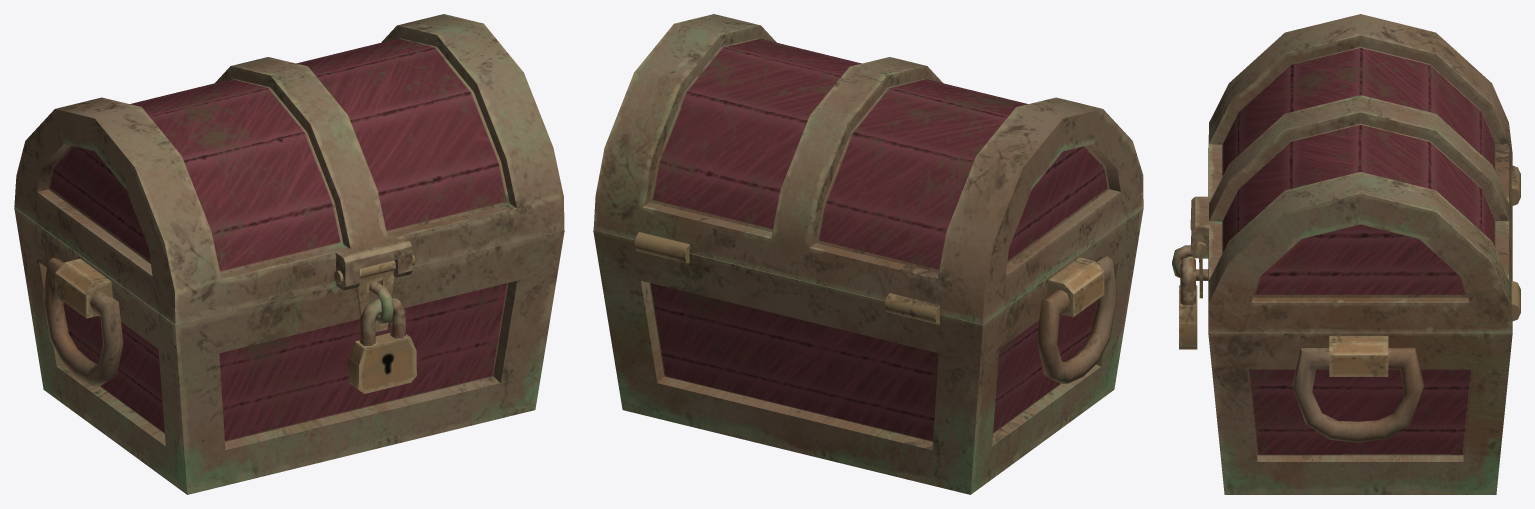
The model's file is airdrop.glb.
The picture shows the model from 3 angles, left to right: view 1: azimuth 30°, elevation 25°; view 2: azimuth 150°, elevation 25°; view 3: azimuth 270°, elevation 25°; orthographic projection. The views are drawn at different scales.
Visible parts, largest first — view 1: lid_low, bottom_low, lock_low, handle_low, bracket_low, holder_low, loop_low; view 2: lid_low, bottom_low, handle_low, bracket_low, hinge_low, hinge_02_low; view 3: lid_low, bottom_low, handle_low, bracket_low, lock_low, loop_low.
Part boxes in pixels (bbox=[...]): lid_low: bbox=[14, 14, 564, 324]; bottom_low: bbox=[14, 207, 564, 494]; lock_low: bbox=[349, 297, 416, 393]; handle_low: bbox=[43, 258, 123, 386]; bracket_low: bbox=[55, 258, 112, 318]; holder_low: bbox=[356, 271, 394, 332]; loop_low: bbox=[369, 282, 393, 324]; lid_low: bbox=[593, 14, 1143, 324]; bottom_low: bbox=[593, 207, 1143, 494]; handle_low: bbox=[1037, 256, 1117, 383]; bracket_low: bbox=[1046, 257, 1104, 317]; hinge_low: bbox=[634, 232, 689, 263]; hinge_02_low: bbox=[884, 293, 939, 324]; lid_low: bbox=[1190, 14, 1512, 332]; bottom_low: bbox=[1208, 332, 1512, 494]; handle_low: bbox=[1292, 347, 1424, 442]; bracket_low: bbox=[1329, 336, 1388, 376]; lock_low: bbox=[1179, 256, 1197, 349]; loop_low: bbox=[1172, 245, 1208, 280].
Size of the model in its own units: 303 by 217 by 221.
1 material, 1 textured.
